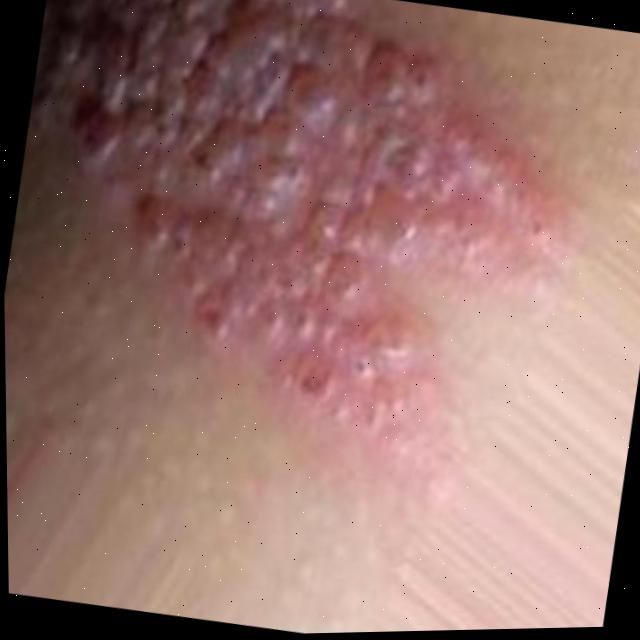Shingles: (8, 0, 545, 370)
